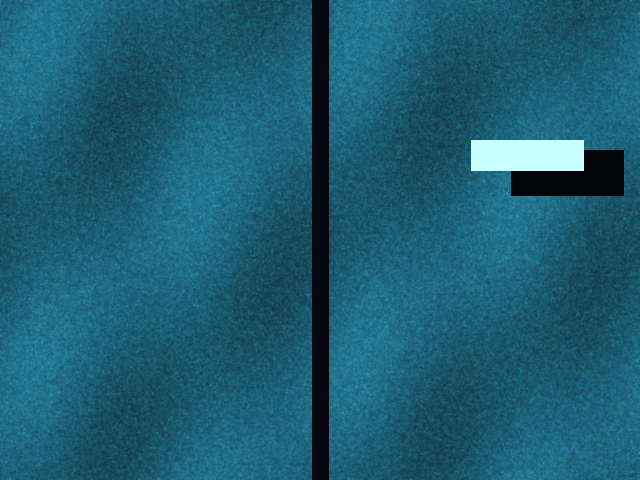Metal Object: (471, 140, 583, 170)
